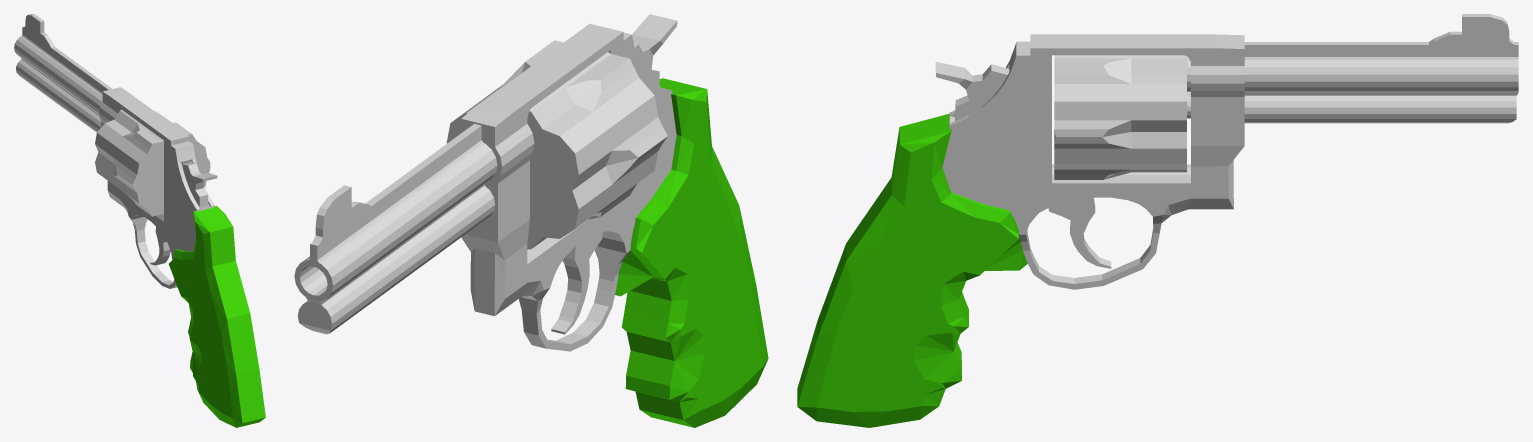
3 renders of one model, left to right at view 1: azimuth 30°, elevation 25°; view 2: azimuth 150°, elevation 25°; view 3: azimuth 270°, elevation 25°, orthographic. The views are drawn at different scales.
Visible parts, largest first — view 1: rev; view 2: rev; view 3: rev.
Boxes of the visible parts, left/top/right/bottom form: rev: left=14, top=14, right=265, bottom=427; rev: left=294, top=14, right=768, bottom=427; rev: left=797, top=14, right=1518, bottom=427.
Bounding box in the file's own units: 4.09 × 20.72 × 12.79.
